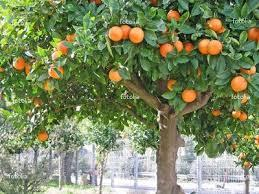orange: (197, 36, 227, 59), (170, 80, 199, 103), (160, 41, 187, 57), (129, 20, 147, 42), (230, 70, 249, 89), (55, 36, 72, 57), (208, 18, 231, 33), (108, 21, 122, 40)
